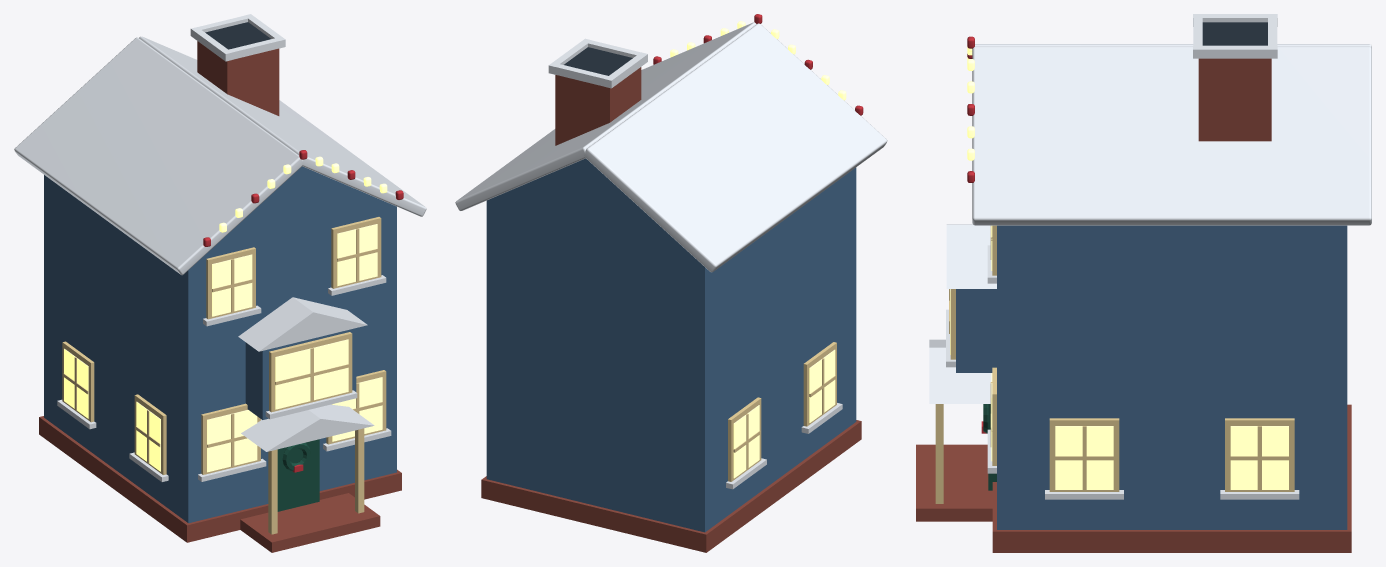
Rendered from bluebird.glb.
3 renders of one model, left to right at view 1: azimuth 30°, elevation 25°; view 2: azimuth 150°, elevation 25°; view 3: azimuth 270°, elevation 25°, orthographic. The views are drawn at different scales.
Visible parts, largest first — view 1: Exterior; view 2: Exterior; view 3: Exterior.
Boxes of the visible parts, x1,y1,x2,y2 form: Exterior: (14, 14, 426, 552); Exterior: (455, 14, 887, 552); Exterior: (916, 14, 1371, 552).
Size of what is drawn, in the model's own units: 5.98 by 9.14 by 7.8.
